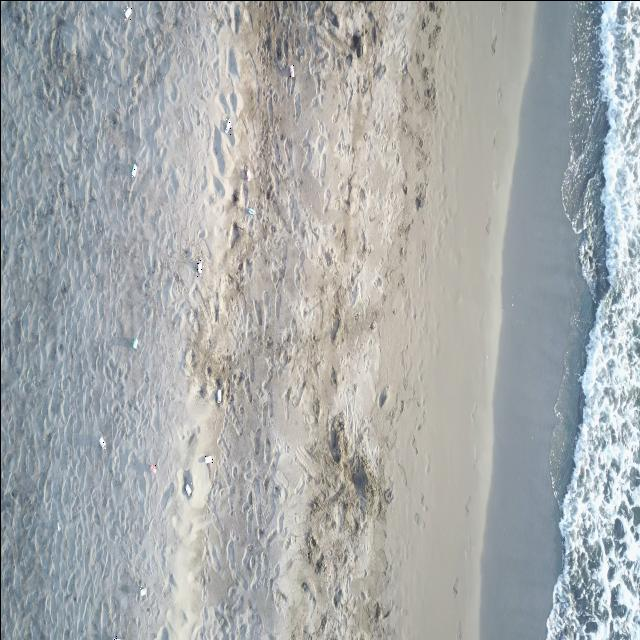Garbage: (243, 166, 251, 180), (123, 5, 131, 19), (224, 119, 231, 134), (184, 482, 192, 495), (131, 336, 138, 348), (196, 259, 201, 275), (247, 207, 255, 216), (203, 455, 212, 463), (148, 464, 156, 473), (99, 435, 104, 449), (288, 64, 293, 77), (131, 163, 136, 176), (216, 387, 219, 404), (140, 586, 145, 596), (56, 523, 60, 531), (112, 635, 120, 639)
